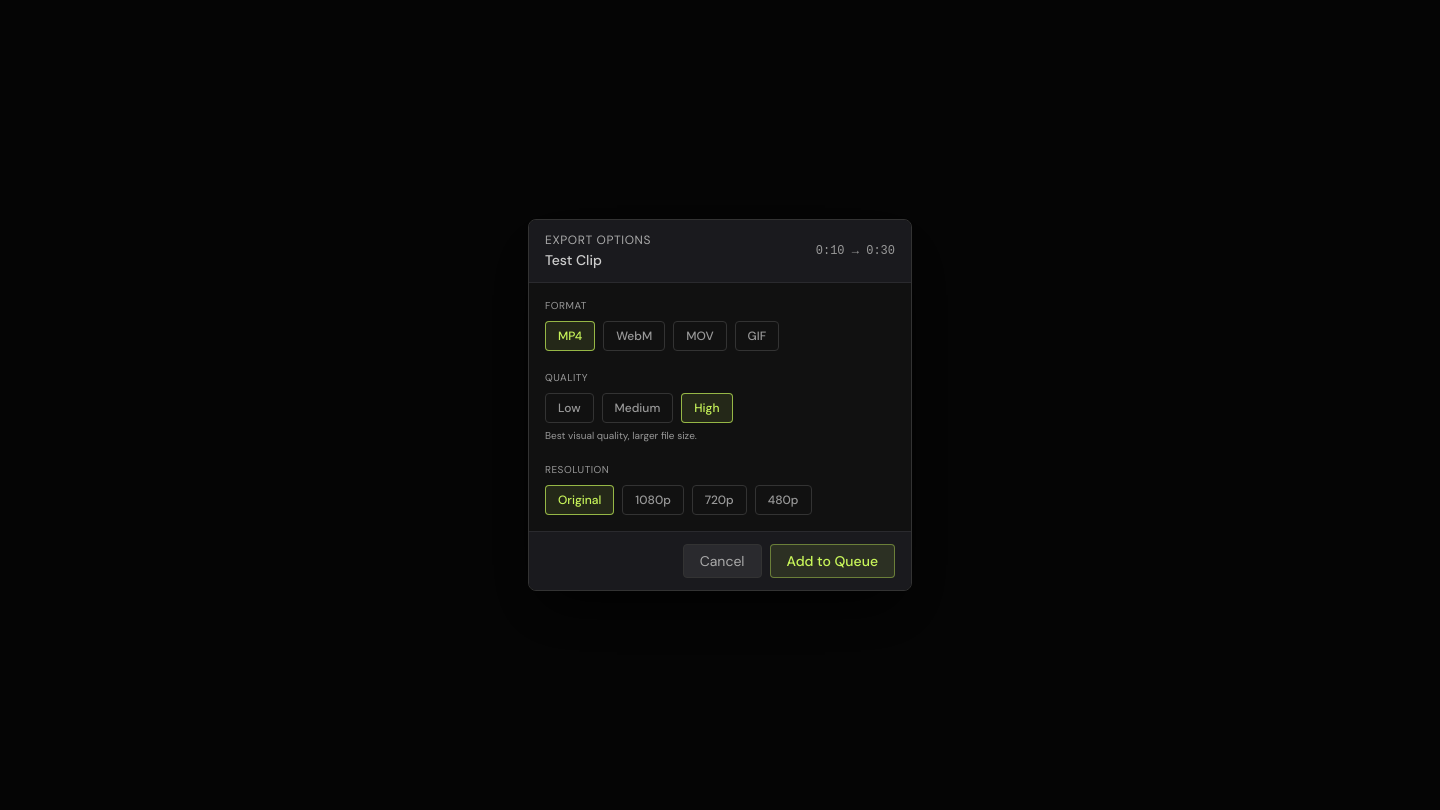
it: ExportOptionsModal — GIF warning › shows GIF warning box when GIF format is selected
The image size is (1440, 810).
Click the button "GIF" at (757, 336), box [735,321,779,351]
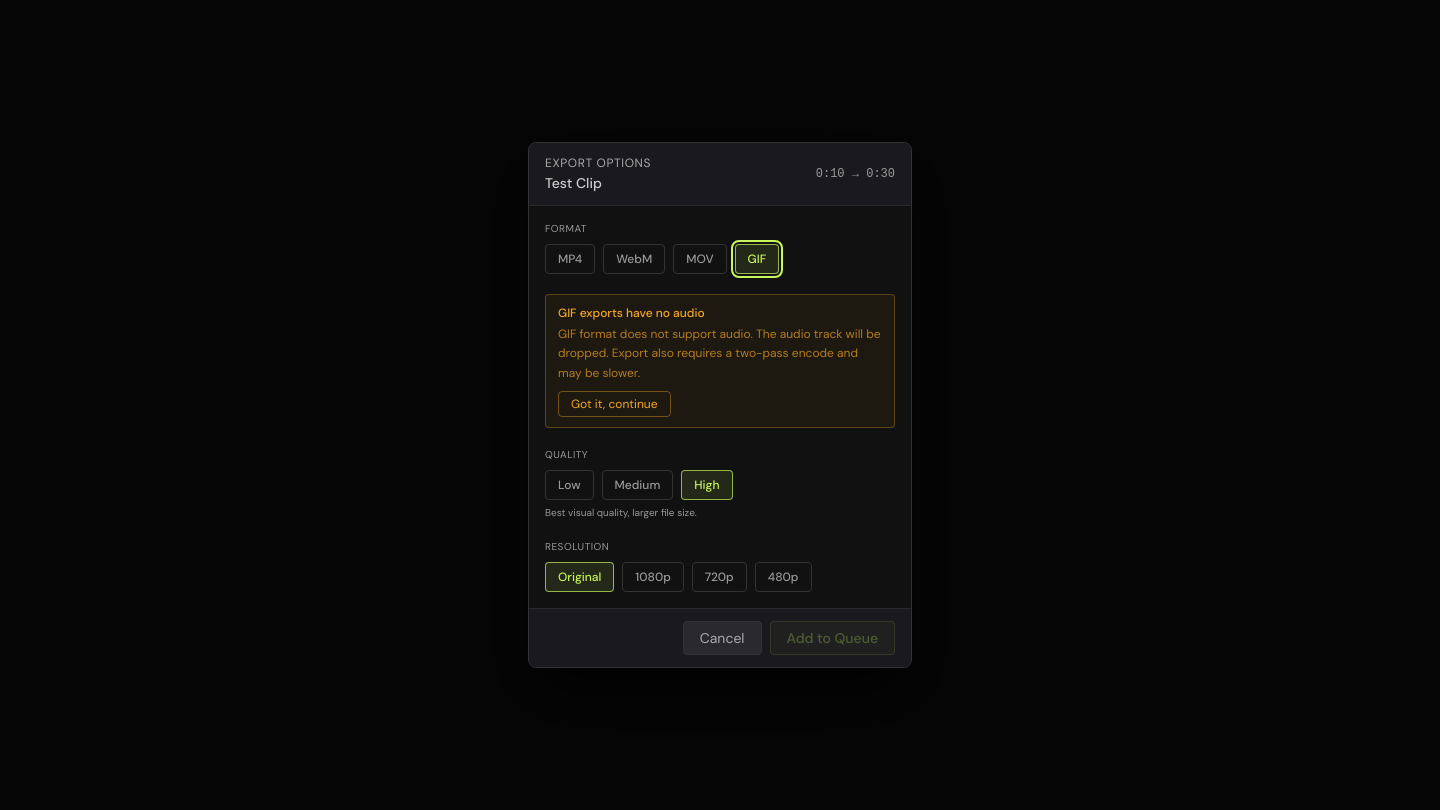
Check: the text "GIF exports have no audio" is shown, box [558,305,705,321]
